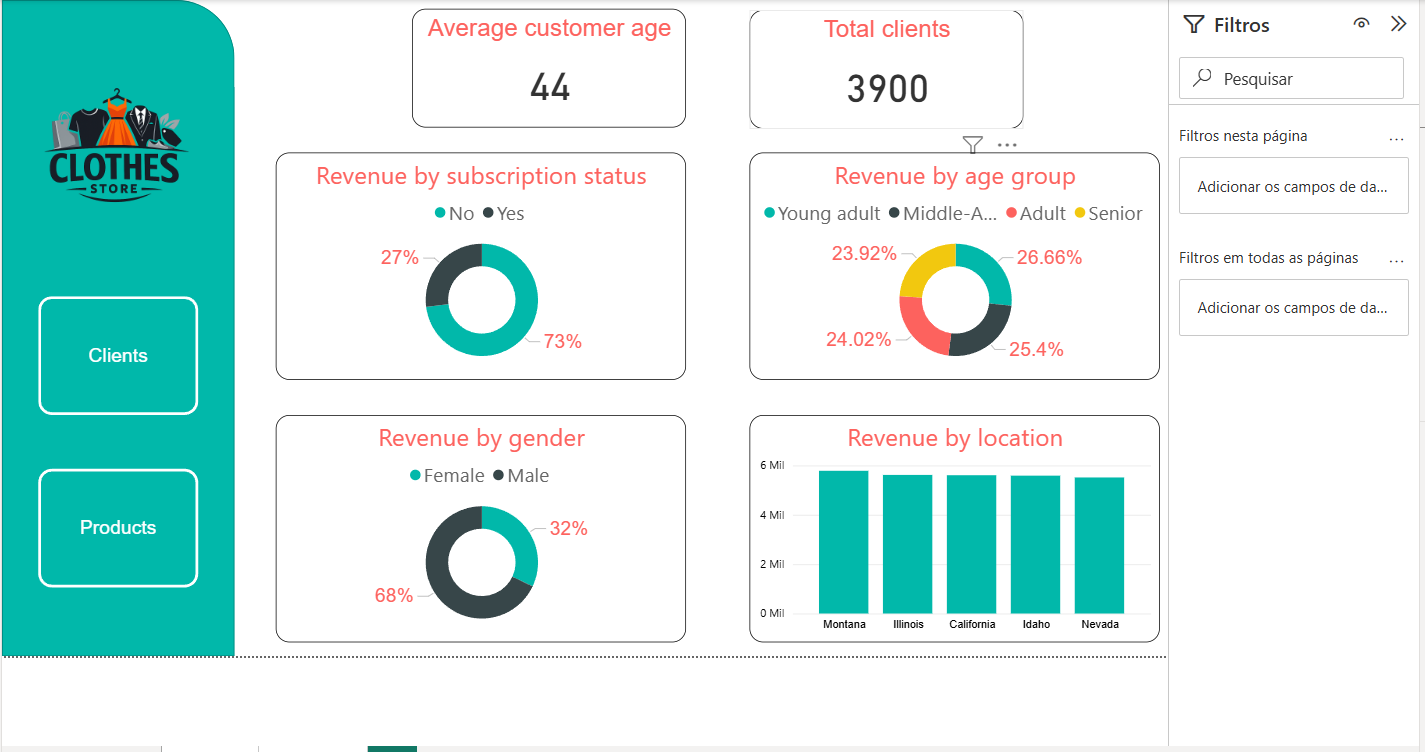

What the dashboard file says about the page in this screenshot:
{"tool":"powerbi","page":{"name":"Clients","canvas":[1280,720],"ordinal":0},"visuals":[{"type":"shape","box":[0,0,255.2,720.4],"z":0},{"type":"card","title":"Total clients","fields":{"Values":["Consulta1.number_of_customers"]},"box":[820.6,11,300.5,130.4],"z":1000},{"type":"card","title":"Average customer age","fields":{"Values":["Avg(customer.age)"]},"box":[450.1,9.6,300.5,130.4],"z":2000},{"type":"donutChart","title":"Revenue by age group","fields":{"Y":["Sum(age_group_revenue.total_revenue)"],"Category":["age_group_revenue.age_group"]},"box":[820.6,167.4,450.1,249.7],"z":3000},{"type":"donutChart","title":"Revenue by subscription status","fields":{"Y":["CountNonNull(customer.purchase_amount)"],"Category":["customer.subscription_status"]},"box":[300.5,167.4,450.1,249.7],"z":4000},{"type":"donutChart","title":"Revenue by gender","fields":{"Y":["CountNonNull(customer.purchase_amount)"],"Series":["customer.gender"]},"box":[300.5,455.6,450.1,249.7],"z":5000},{"type":"clusteredColumnChart","title":"Revenue by location","fields":{"Category":["customer.location"],"Y":["Sum(customer.purchase_amount)"]},"box":[820.6,455.6,450.1,249.7],"z":6000},{"type":"actionButton","box":[39.8,325.2,175.6,130.4],"z":8500},{"type":"actionButton","box":[39.8,514.6,175.6,130.4],"z":9000},{"type":"image","box":[12.3,43.9,229.2,248.4],"z":9001}]}

Visuals, with their boxes on the page's 1280x720 design canvas (x1, y1, x2, y2). These are canvas units, not pixel positions in the 1425x752 screenshot, which may show the page scaled, cropped or inside an application window:
shape: [left=0, top=0, right=255, bottom=720]
"Total clients" card: [left=821, top=11, right=1121, bottom=141]
"Average customer age" card: [left=450, top=10, right=751, bottom=140]
"Revenue by age group" donutChart: [left=821, top=167, right=1271, bottom=417]
"Revenue by subscription status" donutChart: [left=300, top=167, right=751, bottom=417]
"Revenue by gender" donutChart: [left=300, top=456, right=751, bottom=705]
"Revenue by location" clusteredColumnChart: [left=821, top=456, right=1271, bottom=705]
actionButton: [left=40, top=325, right=215, bottom=456]
actionButton: [left=40, top=515, right=215, bottom=645]
image: [left=12, top=44, right=242, bottom=292]
